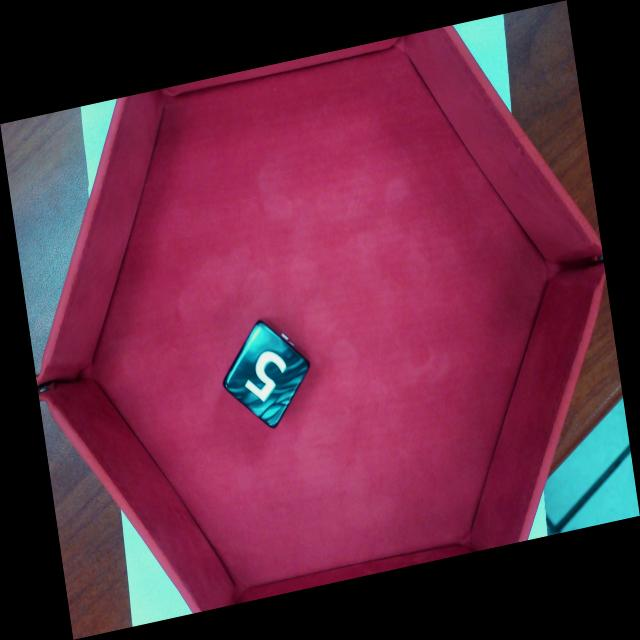dice: (227, 322, 307, 426)
